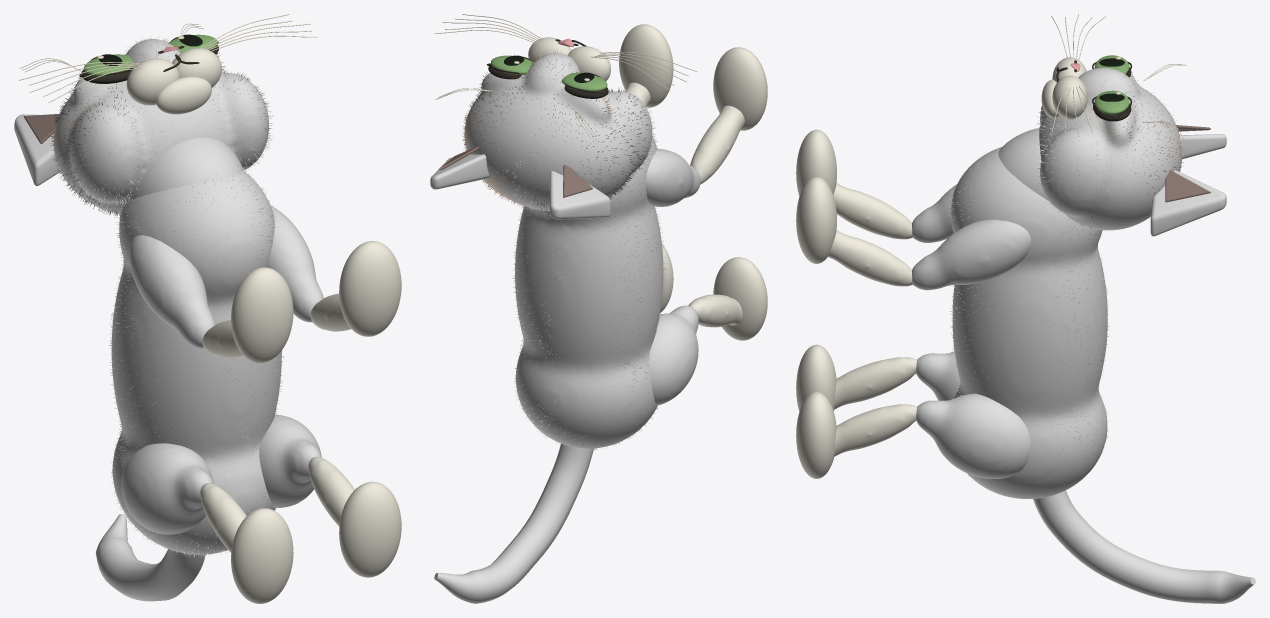
File: mugi-tabby-white-v6.glb
3 views of the same model, side by side, from view 1: azimuth 30°, elevation 25°; view 2: azimuth 150°, elevation 25°; view 3: azimuth 270°, elevation 25° (orthographic). The views are drawn at different scales.
Visible parts, largest first — view 1: Walking_Torso, Head_Sculpt, Hindleg_HL, Foreleg_FL, Walking tail, Paw_FL, Paw_HL, Paw_FR, Paw_HR, Hindleg_HR, Neck, Foreleg_FR (+12 smaller); view 2: Walking_Torso, Head_Sculpt, Walking tail, Hindleg_HL, Paw_FL, Paw_FR, Paw_HL, Foreleg_FL, Foreleg_lower_FL, Ear_L, Short coat • Head_Sculpt, Hindleg_lower_HL (+8 smaller); view 3: Walking_Torso, Head_Sculpt, Walking tail, Hindleg_HR, Foreleg_FR, Paw_FR, Paw_HR, Foreleg_lower_FR, Hindleg_lower_HR, Hindleg_lower_HL, Foreleg_lower_FL, Ear_R (+10 smaller).
Part boxes in pixels (x1,y1,x2,y2): Walking_Torso: (111,171,281,554); Head_Sculpt: (53,39,268,214); Hindleg_HL: (121,443,213,534); Foreleg_FL: (129,235,215,348); Walking tail: (95,514,205,601); Paw_FL: (231,267,293,363); Paw_HL: (231,508,293,603); Paw_FR: (339,241,401,336); Paw_HR: (339,481,401,577); Hindleg_HR: (259,414,321,507); Neck: (129,137,243,200); Foreleg_FR: (266,206,323,322); Walking_Torso: (515,135,663,448); Head_Sculpt: (464,53,652,211); Walking tail: (434,443,593,603); Hindleg_HL: (649,305,698,405); Paw_FL: (713,47,767,130); Paw_FR: (619,24,673,107); Paw_HL: (713,257,767,340); Foreleg_FL: (646,149,700,206); Foreleg_lower_FL: (690,105,744,184); Ear_L: (549,171,610,219); Short coat • Head_Sculpt: (462,49,655,212); Hindleg_lower_HL: (688,294,742,327); Walking_Torso: (950,147,1107,498); Head_Sculpt: (1039,68,1181,230); Walking tail: (1033,490,1255,603); Hindleg_HR: (916,393,1030,478); Foreleg_FR: (912,219,1030,290); Paw_FR: (796,177,836,263); Paw_HR: (796,392,836,478); Foreleg_lower_FR: (828,230,912,286); Hindleg_lower_HR: (834,404,916,456); Hindleg_lower_HL: (834,357,916,409); Foreleg_lower_FL: (833,183,912,239); Ear_R: (1150,170,1226,236).
Bounding box in the file's own units: 1.22 × 2.46 × 1.94.
